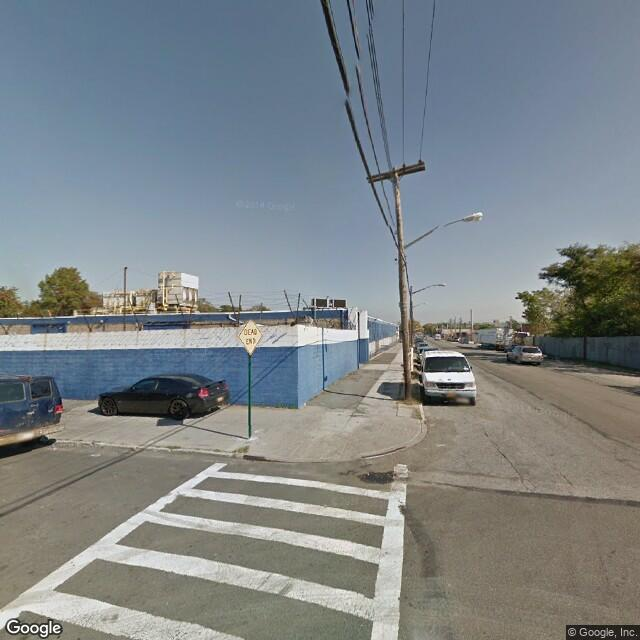litter: (86, 452, 103, 460), (50, 448, 57, 454)
